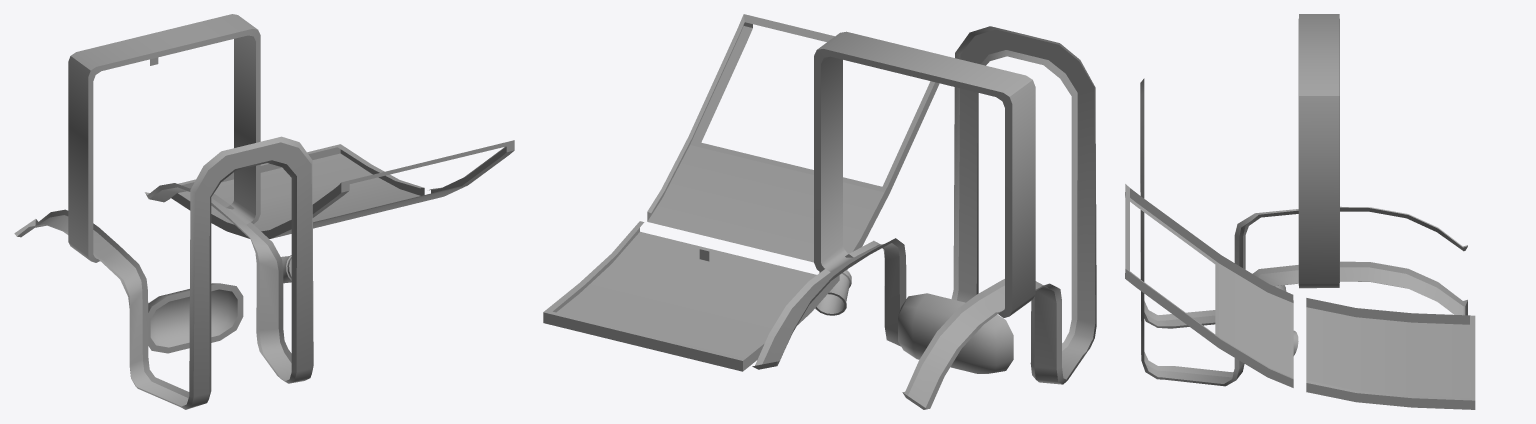
File: CoffeeMachine_22_CoffeeMachine_22_0_GeomSubset_1.obj
The picture shows the model from 3 angles, left to right: view 1: azimuth 30°, elevation 25°; view 2: azimuth 150°, elevation 25°; view 3: azimuth 270°, elevation 25°; orthographic projection. The views are drawn at different scales.
Visible parts, largest first — view 1: CoffeeMachine_22_CoffeeMachine_22_0_GeomSubset_1; view 2: CoffeeMachine_22_CoffeeMachine_22_0_GeomSubset_1; view 3: CoffeeMachine_22_CoffeeMachine_22_0_GeomSubset_1.
Boxes of the visible parts, x1,y1,x2,y2 form: CoffeeMachine_22_CoffeeMachine_22_0_GeomSubset_1: (14,14,514,409); CoffeeMachine_22_CoffeeMachine_22_0_GeomSubset_1: (543,14,1096,409); CoffeeMachine_22_CoffeeMachine_22_0_GeomSubset_1: (1125,14,1475,409).
Bounding box in the file's own units: 0.4067 × 0.3387 × 0.409.
